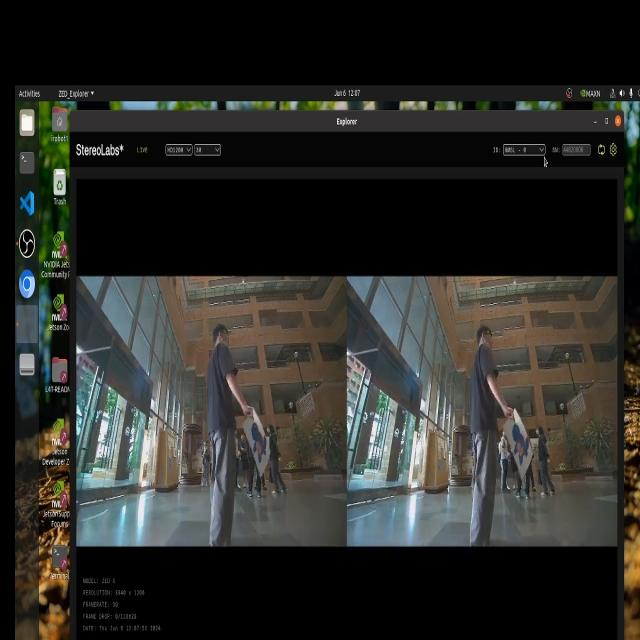blue: (239, 420, 276, 462), (512, 416, 534, 465)
